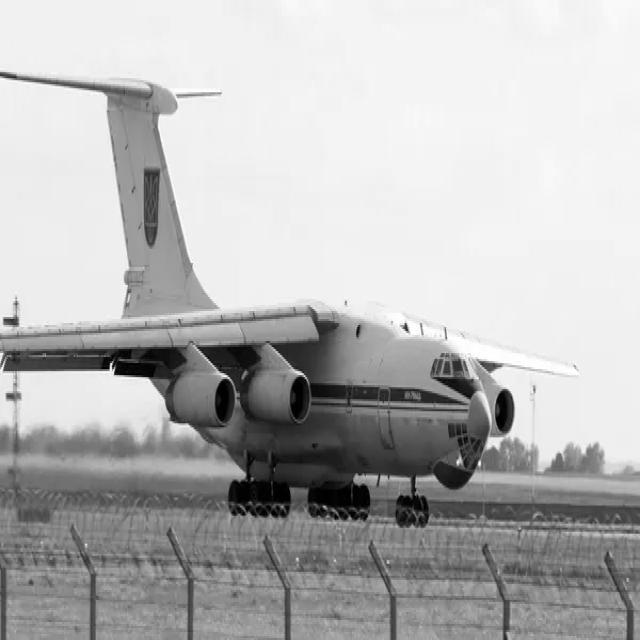Aircraft: (3, 59, 579, 539)
